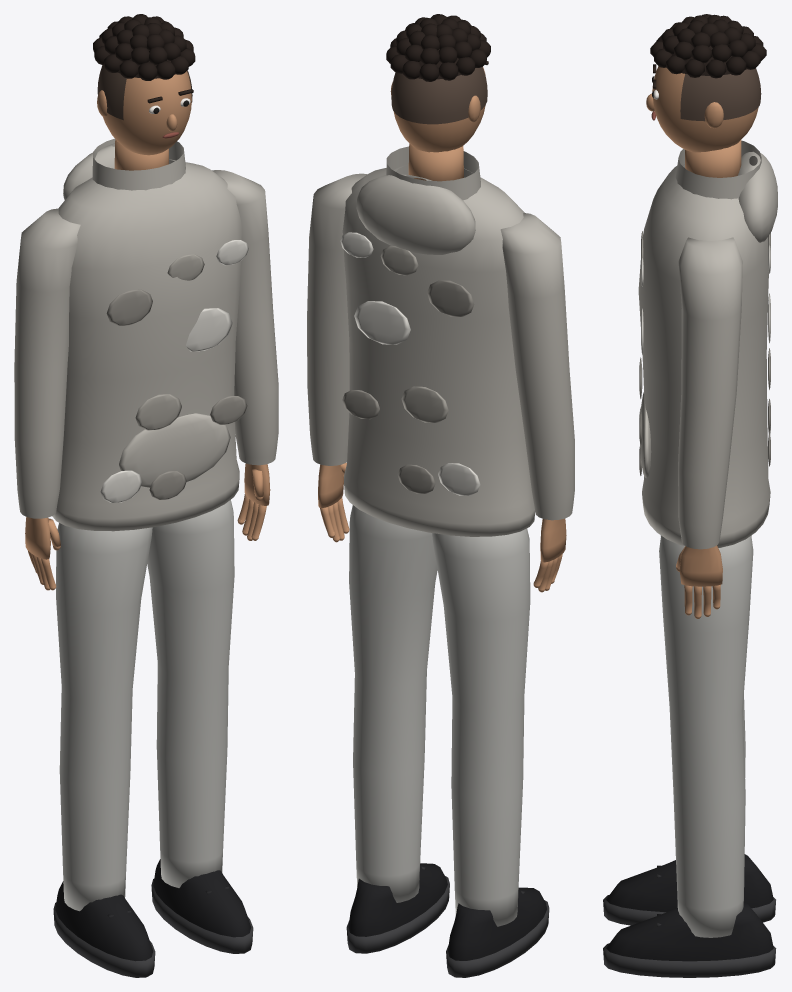
Rendered from npc_sam.glb.
3 views of the same model, side by side, from view 1: azimuth 30°, elevation 25°; view 2: azimuth 150°, elevation 25°; view 3: azimuth 270°, elevation 25° (orthographic).
Visible parts, largest first — view 1: Top_B, Leg_R_B, Leg_L_B, Arm_R_B, Arm_L_B, Head_B, Hair_B, Shoe_R_B, Shoe_L_B; view 2: Top_B, Leg_R_B, Leg_L_B, Arm_R_B, Arm_L_B, Hair_B, Shoe_R_B, Shoe_L_B, Head_B; view 3: Top_B, Leg_L_B, Arm_L_B, Hair_B, Shoe_L_B, Head_B, Shoe_R_B.
Boxes of the visible parts, x1=… form: Top_B: x1=52, y1=138, x2=248, y2=531; Leg_R_B: x1=56, y1=523, x2=152, y2=911; Leg_L_B: x1=147, y1=500, x2=234, y2=887; Arm_R_B: x1=14, y1=208, x2=80, y2=590; Arm_L_B: x1=212, y1=170, x2=278, y2=540; Head_B: x1=97, y1=71, x2=193, y2=170; Hair_B: x1=93, y1=14, x2=195, y2=120; Shoe_R_B: x1=53, y1=881, x2=155, y2=977; Shoe_L_B: x1=151, y1=859, x2=253, y2=953; Top_B: x1=340, y1=146, x2=535, y2=536; Leg_R_B: x1=432, y1=528, x2=530, y2=926; Leg_L_B: x1=349, y1=505, x2=437, y2=902; Arm_R_B: x1=500, y1=213, x2=574, y2=592; Arm_L_B: x1=307, y1=173, x2=367, y2=542; Hair_B: x1=386, y1=14, x2=490, y2=124; Shoe_R_B: x1=446, y1=887, x2=549, y2=977; Shoe_L_B: x1=346, y1=863, x2=449, y2=953; Head_B: x1=390, y1=61, x2=488, y2=181; Top_B: x1=638, y1=140, x2=777, y2=547; Leg_L_B: x1=659, y1=535, x2=753, y2=937; Arm_L_B: x1=676, y1=237, x2=742, y2=618; Hair_B: x1=650, y1=14, x2=766, y2=121; Shoe_L_B: x1=603, y1=902, x2=776, y2=977; Head_B: x1=646, y1=64, x2=758, y2=177; Shoe_R_B: x1=603, y1=854, x2=775, y2=925.
Bounding box in the file's own units: 0.5114 × 1.72 × 0.2965.
